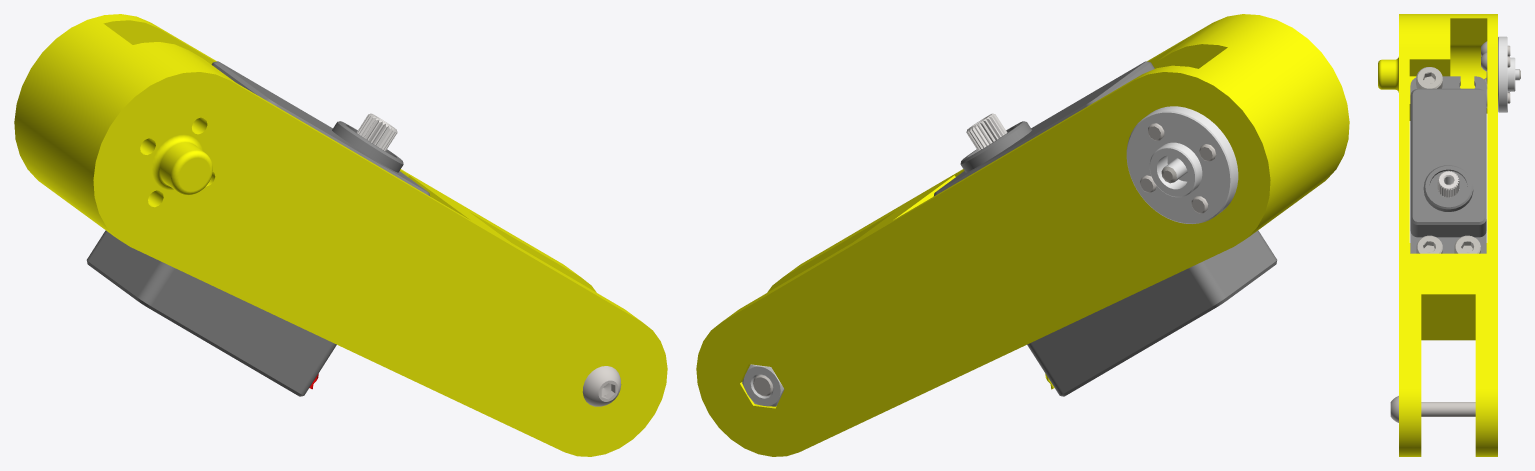
3 views of the same model, side by side, from view 1: azimuth 30°, elevation 25°; view 2: azimuth 150°, elevation 25°; view 3: azimuth 270°, elevation 25° (orthographic). The views are drawn at different scales.
Parts seen in each view (by area): view 1: L2_obj.002; view 2: L2_obj.002; view 3: L2_obj.002.
Part boxes in pixels (x1=…): L2_obj.002: x1=14, y1=14, x2=667, y2=456; L2_obj.002: x1=696, y1=14, x2=1349, y2=456; L2_obj.002: x1=1378, y1=14, x2=1520, y2=456.
Bounding box in the file's own units: 0.109 × 0.0375 × 0.0878.
